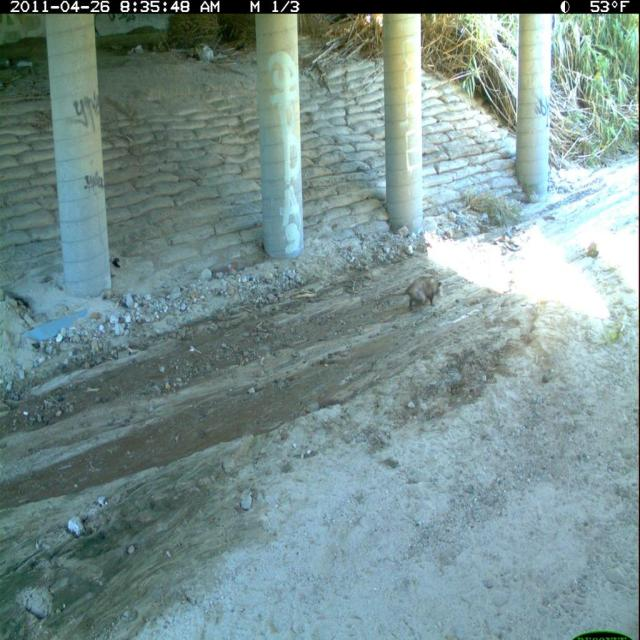opossum: (388, 274, 445, 312)
